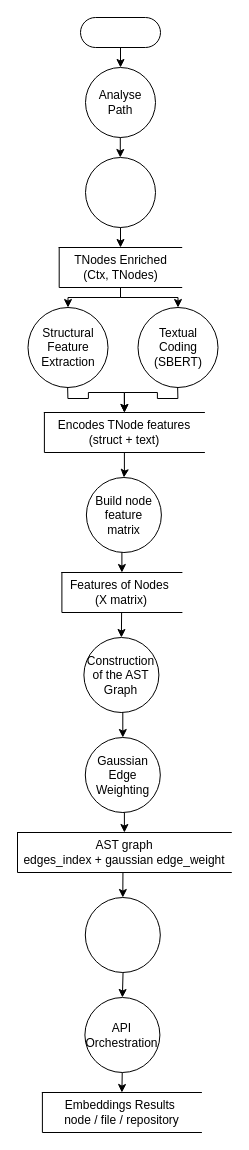
This 249x1150 diagram has some shape labels left out. Each missing label, with the centre of its shape:
"Embedding Generation GNN" goes at [122,934].
"Source Code Parsing" goes at [120,192].
"SourceCode" goes at [120,32].
